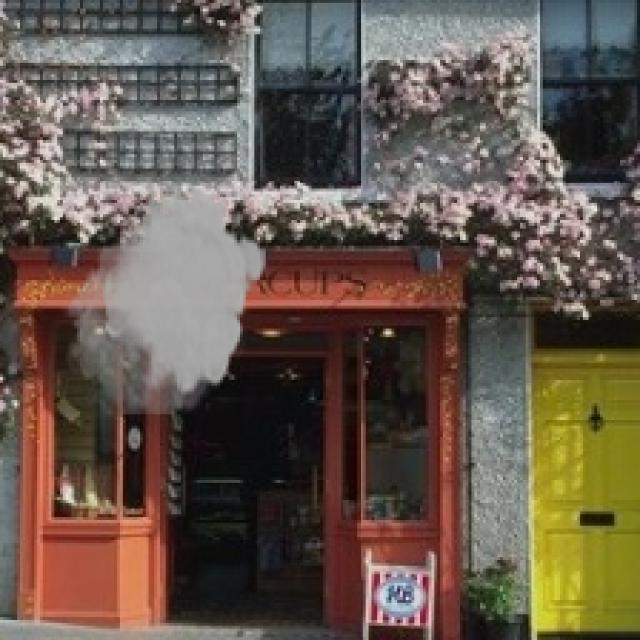smoke: (60, 183, 266, 414)
